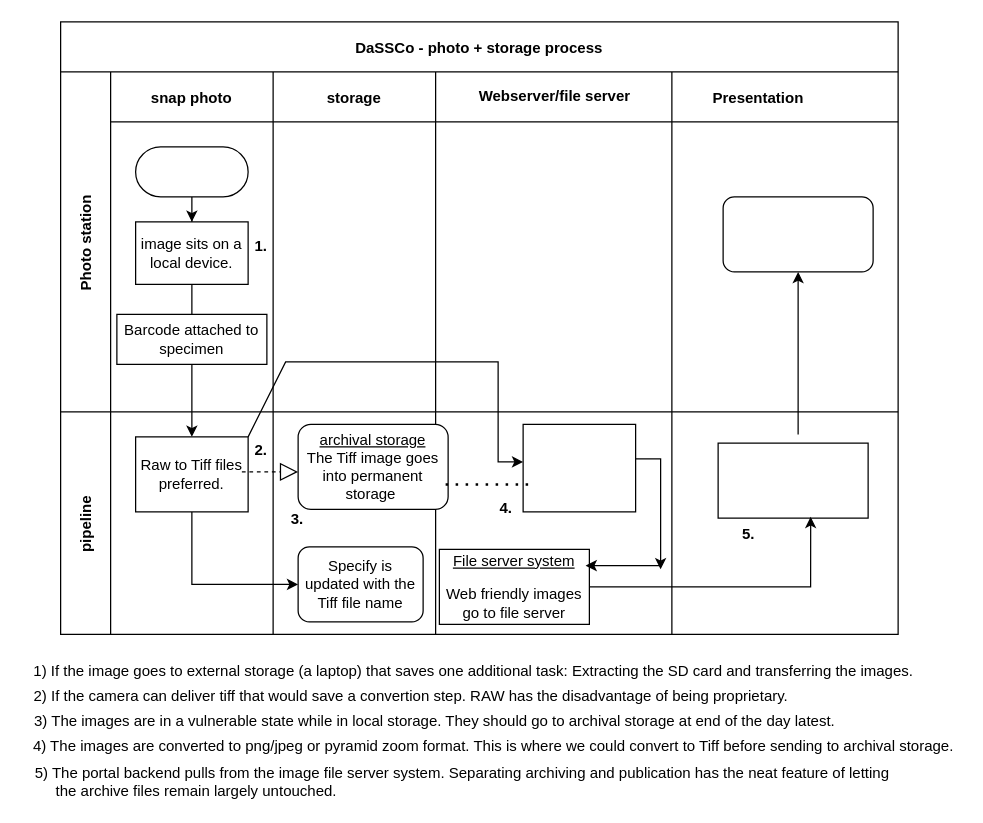
Some shapes in this 983 by 823 pixel diagram are drawn without their labels. Here are the shapes that lost their labels. From the top down, the centre of each, then its label:
[191,171]: photo obtained
[797,234]: Portal updated with new specimen images.
[579,467]: convert image to web-friendlier formats
[792,480]: Portal backend populates from FS
